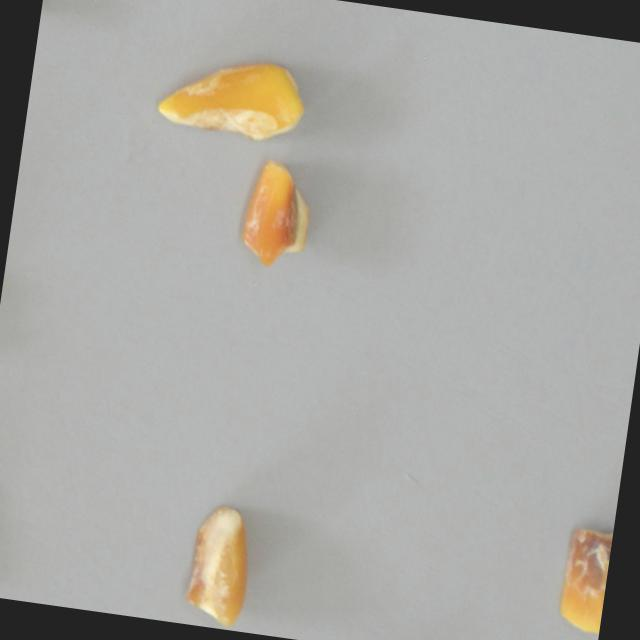dañado: (152, 44, 313, 151), (234, 153, 324, 279), (177, 498, 259, 632), (551, 518, 614, 640)
